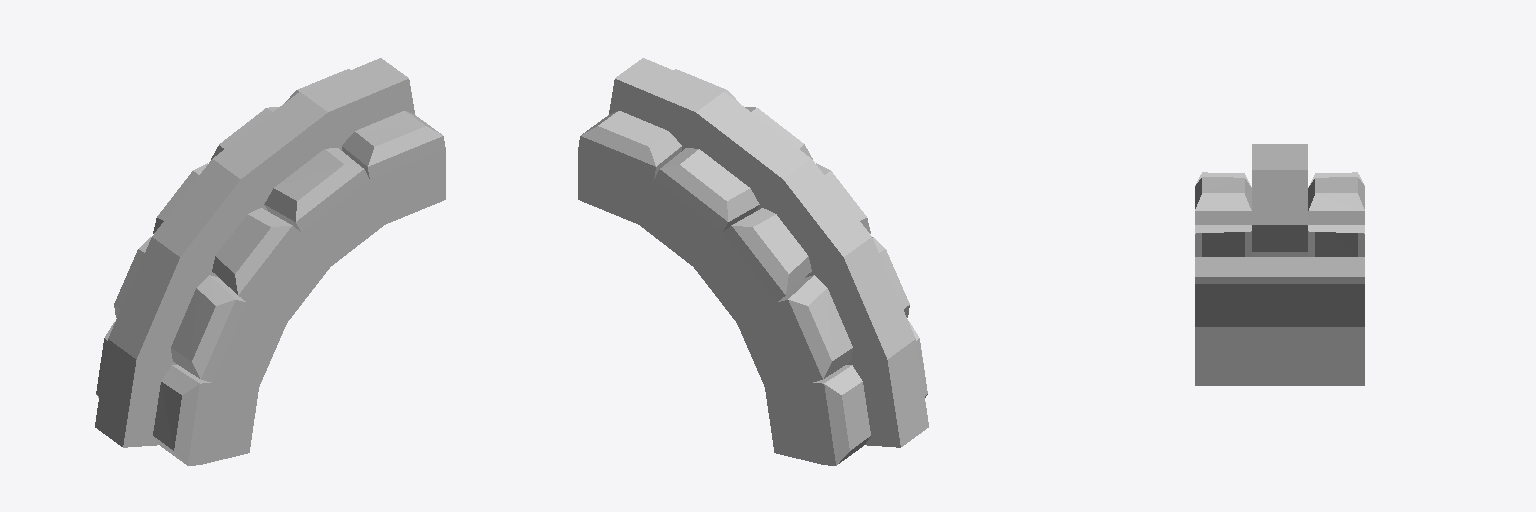
Rendered from Arch.obj.
3 views of the same model, side by side, from view 1: azimuth 30°, elevation 25°; view 2: azimuth 150°, elevation 25°; view 3: azimuth 270°, elevation 25° (orthographic).
Parts seen in each view (by area): view 1: Arch; view 2: Arch; view 3: Arch.
Part boxes in pixels (bbox=[...]): Arch: bbox=[95, 58, 445, 465]; Arch: bbox=[578, 58, 928, 465]; Arch: bbox=[1195, 144, 1364, 385].
Size of the model in its own units: 5.99 by 5.99 by 3.